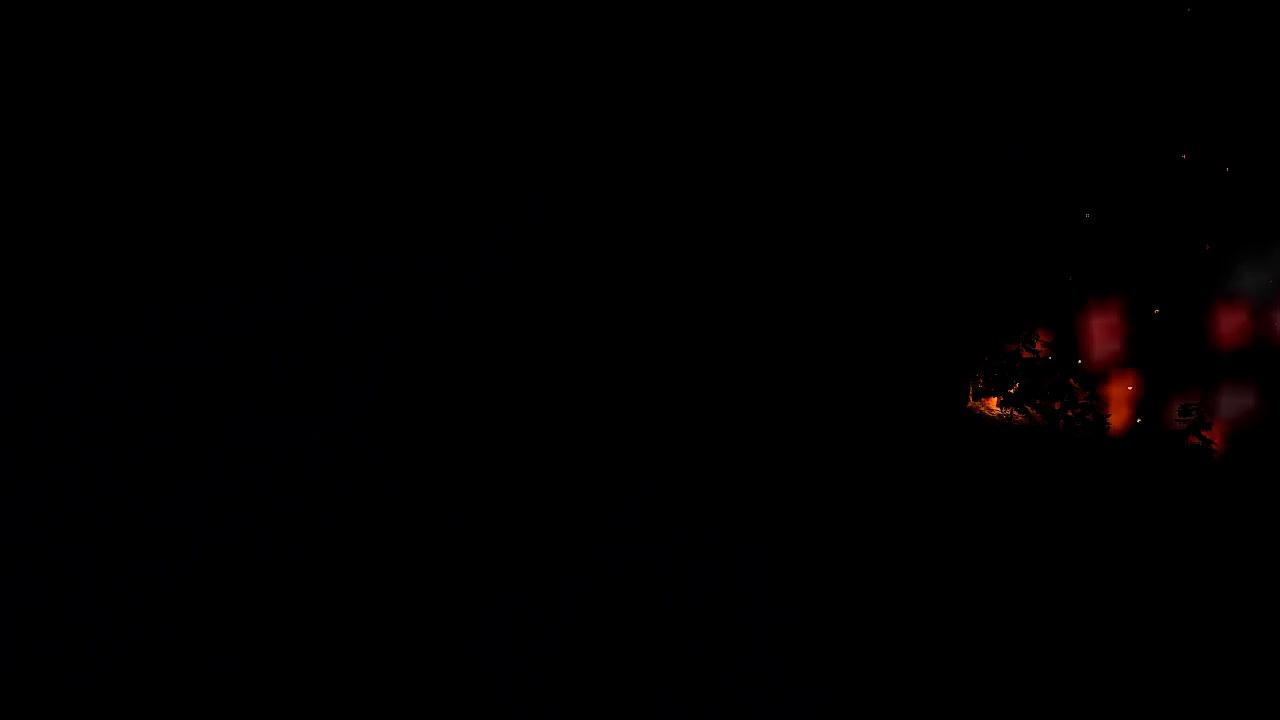smoke: (1007, 272, 1277, 457)
